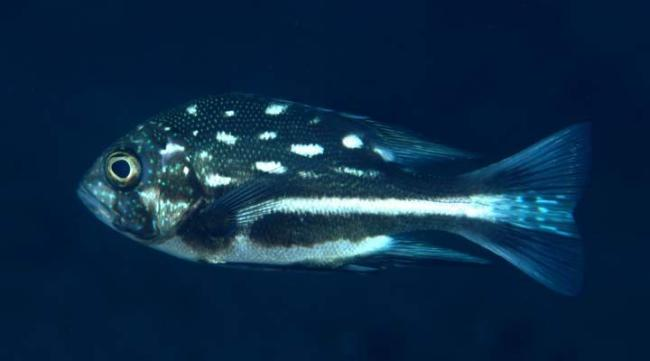fish: (77, 91, 594, 298)
